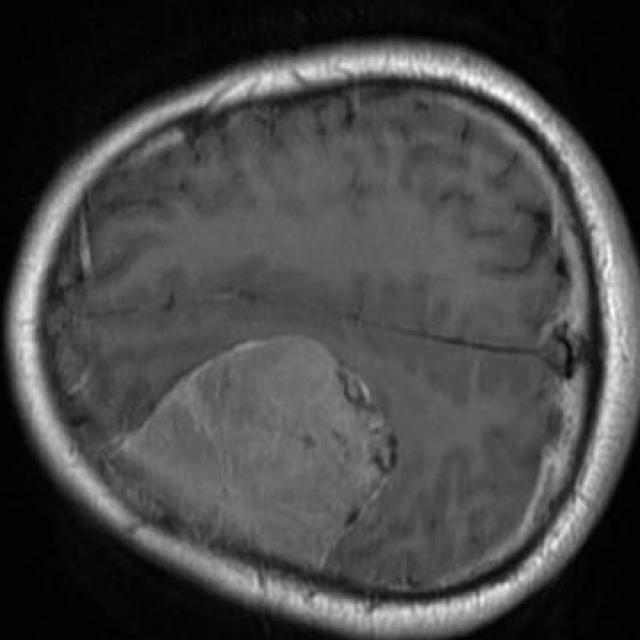meningioma: (128, 337, 385, 553)
